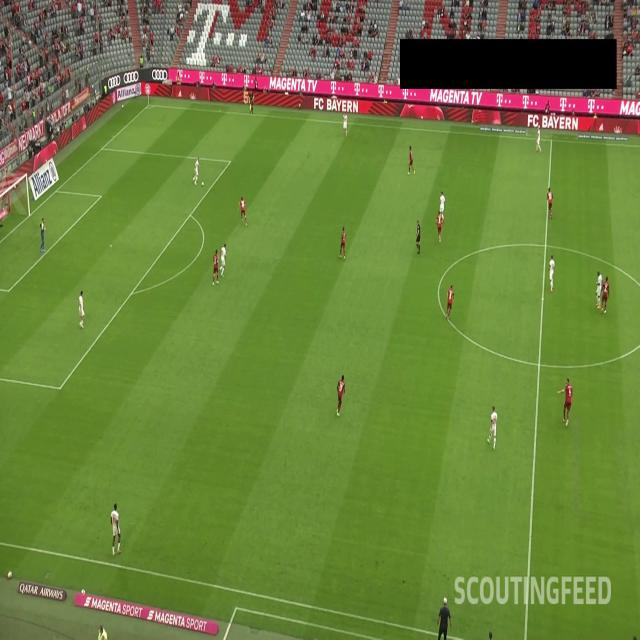ball: (200, 178, 207, 190)
player: (558, 378, 576, 430), (109, 500, 122, 556), (74, 287, 89, 332), (486, 406, 498, 456), (334, 373, 346, 419), (444, 280, 456, 323), (405, 139, 417, 178), (210, 246, 220, 288), (548, 253, 558, 294), (239, 191, 249, 231), (601, 274, 611, 314), (594, 262, 602, 311), (544, 181, 554, 220), (435, 189, 447, 221), (38, 216, 47, 255), (338, 225, 347, 261), (220, 240, 228, 280), (339, 111, 350, 138), (192, 153, 200, 187), (534, 122, 542, 156), (436, 204, 442, 245)
referee: (412, 218, 424, 258), (246, 86, 255, 120)
